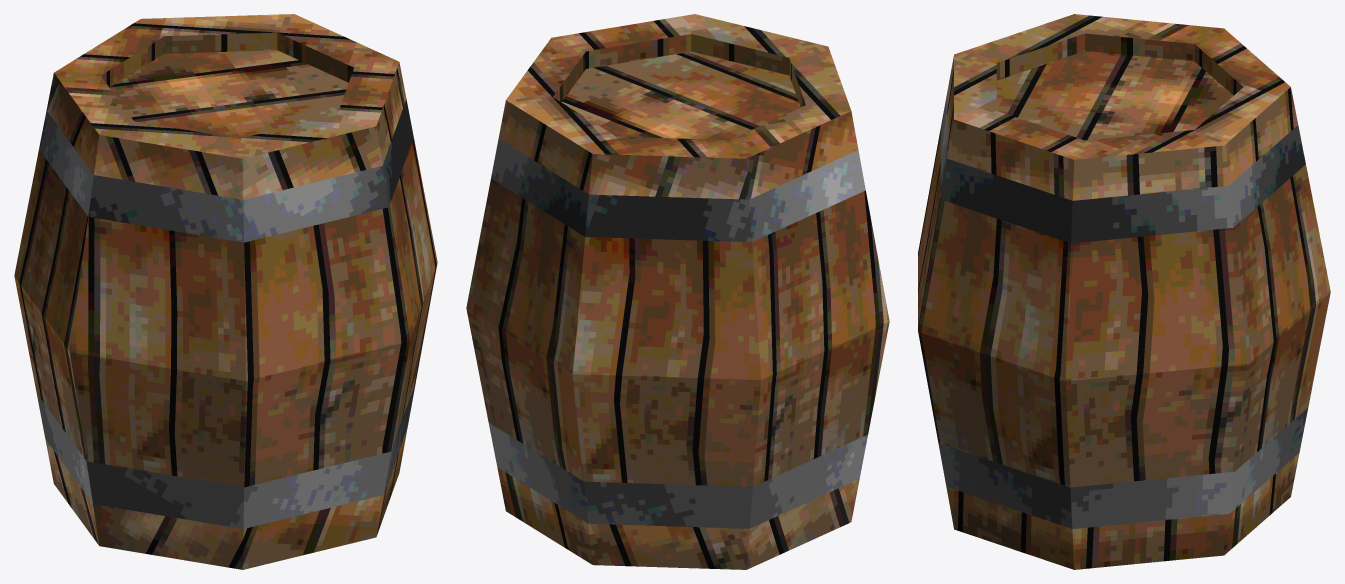
The model's file is barell.glb.
3 views of the same model, side by side, from view 1: azimuth 30°, elevation 25°; view 2: azimuth 150°, elevation 25°; view 3: azimuth 270°, elevation 25° (orthographic).
Parts seen in each view (by area): view 1: Cylinder; view 2: Cylinder; view 3: Cylinder.
Part boxes in pixels (box(x1,y1,x2,y2)): Cylinder: box(14, 14, 437, 569); Cylinder: box(466, 14, 889, 569); Cylinder: box(918, 14, 1330, 569).
Size of the model in its own units: 2.39 by 2.55 by 2.33.
1 material, 1 textured.
